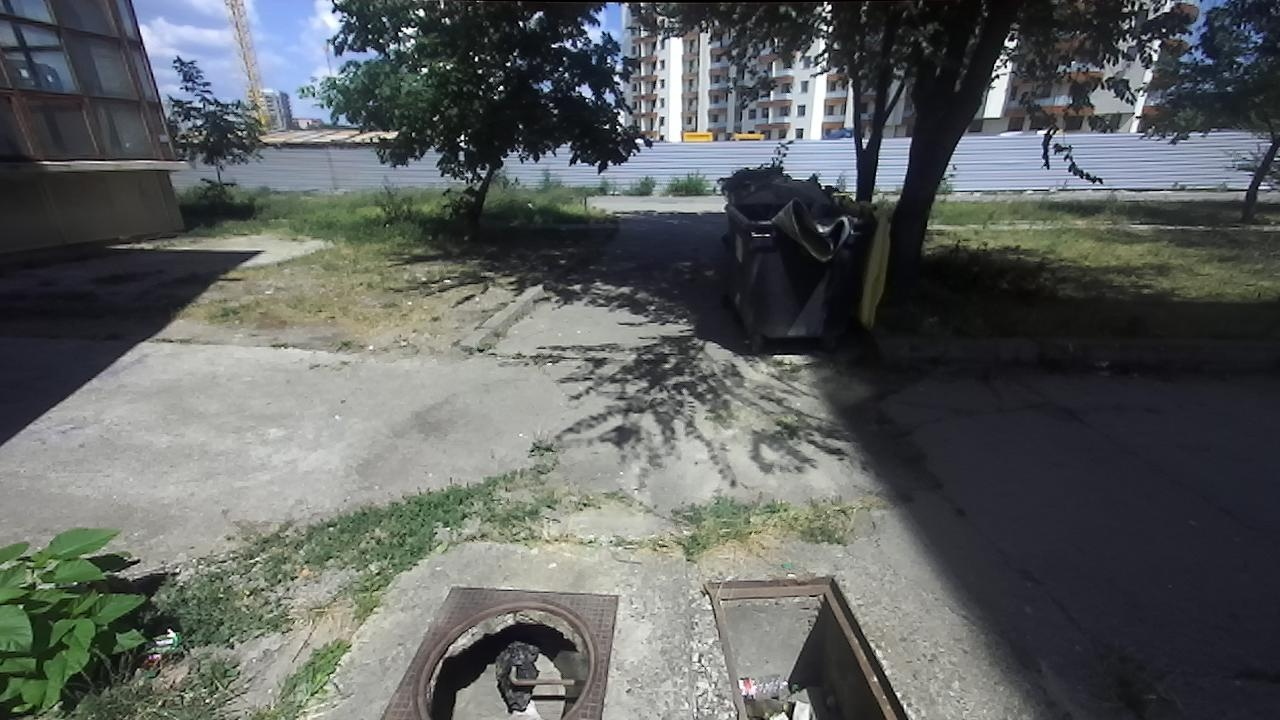drain: (702, 572, 910, 719), (397, 600, 594, 720)
